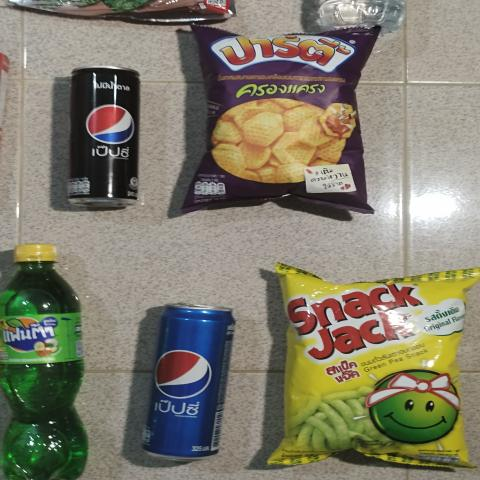fanta_green: (0, 243, 92, 480)
party_purple: (200, 35, 370, 200)
pepsi_black: (65, 64, 148, 208)
pepsi_blue: (143, 298, 247, 458)
snack_jack: (284, 284, 474, 459)
